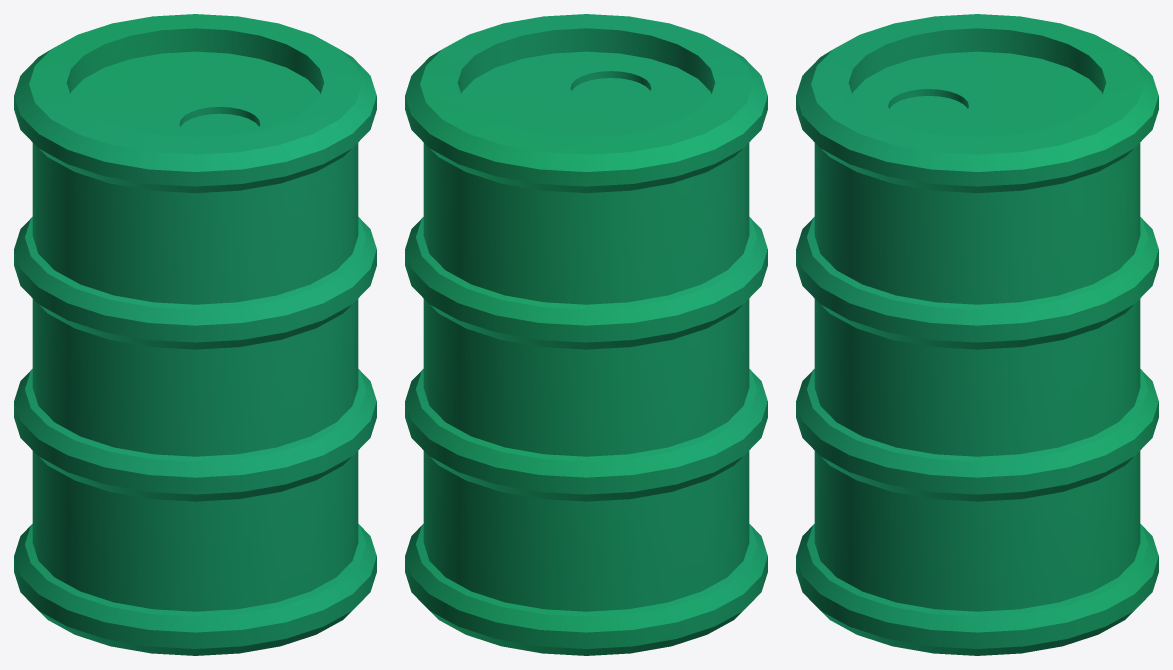
File: military_oil.fbx
3 renders of one model, left to right at view 1: azimuth 30°, elevation 25°; view 2: azimuth 150°, elevation 25°; view 3: azimuth 270°, elevation 25°, orthographic.
Visible parts, largest first — view 1: military_oil; view 2: military_oil; view 3: military_oil.
Part boxes in pixels (bbox=[...]): military_oil: bbox=[14, 14, 376, 655]; military_oil: bbox=[405, 14, 767, 655]; military_oil: bbox=[796, 14, 1158, 655].
Bounding box in the file's own units: 0.7292 × 1.11 × 0.7292.
